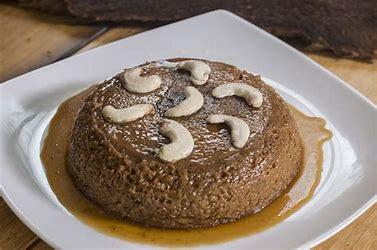Watalappam: (77, 43, 321, 217)
